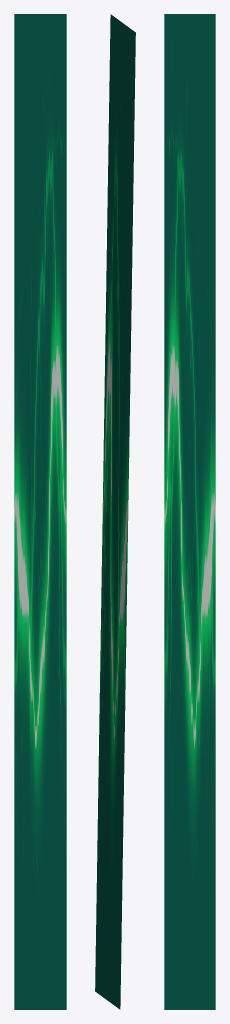
3 views of the same model, side by side, from view 1: azimuth 90°, elevation 25°; view 2: azimuth 210°, elevation 25°; view 3: azimuth 270°, elevation 25° (orthographic). The views are drawn at different scales.
Visible parts, largest first — view 1: Asset3DLoader.sceneRoot; view 2: Asset3DLoader.sceneRoot; view 3: Asset3DLoader.sceneRoot.
Boxes of the visible parts, box(x1,y1,x2,y2) form: Asset3DLoader.sceneRoot: box(14, 14, 66, 1009); Asset3DLoader.sceneRoot: box(95, 14, 135, 1009); Asset3DLoader.sceneRoot: box(164, 14, 215, 1009).
Size of the model in its own units: 2.83 by 170 by 8.02.
1 material, 1 textured.
